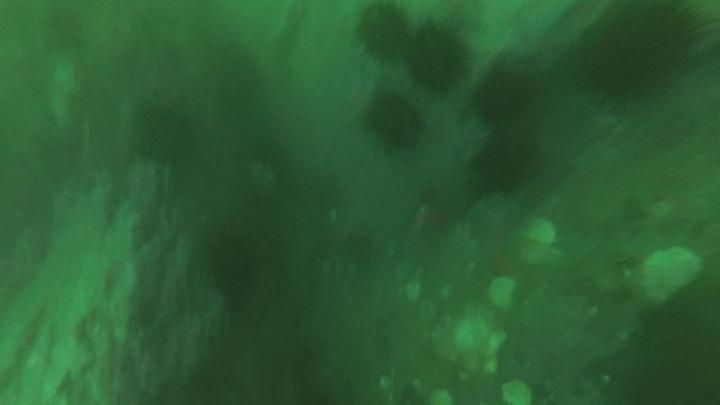echinus: (576, 3, 704, 100), (617, 305, 720, 403), (196, 38, 264, 106), (403, 24, 469, 93), (472, 131, 540, 194), (201, 226, 261, 294), (135, 107, 200, 167), (472, 68, 538, 126), (364, 93, 427, 152), (353, 3, 414, 62)
